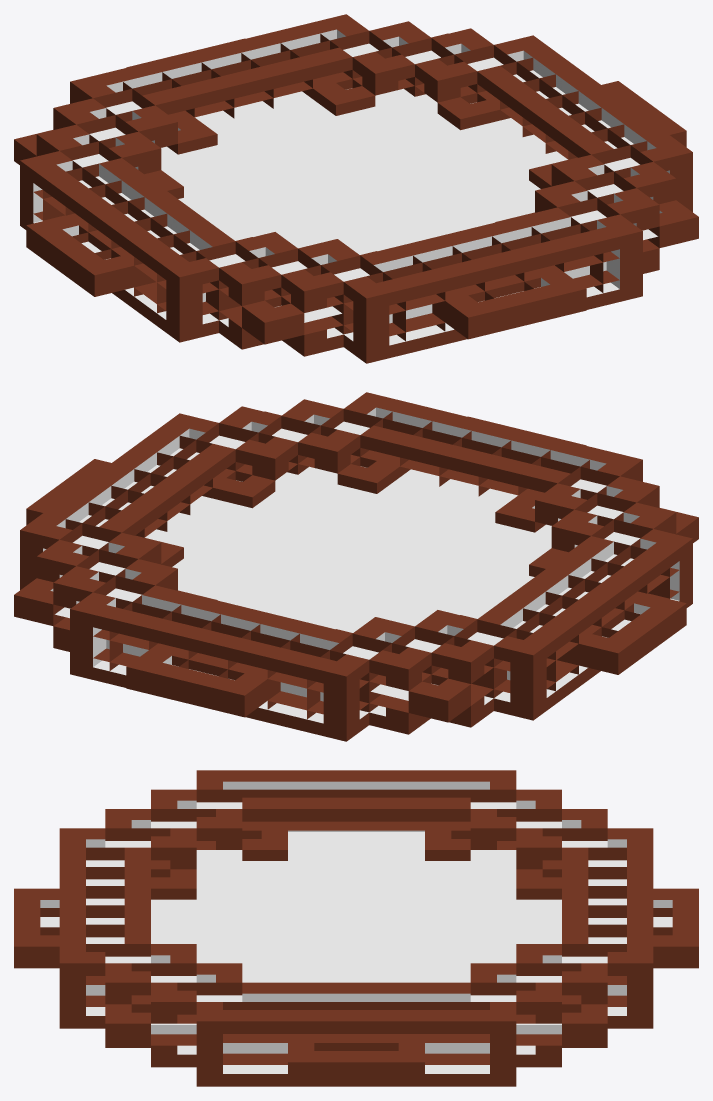
File: jap13.fbx
3 views of the same model, one above another, from view 1: azimuth 30°, elevation 25°; view 2: azimuth 150°, elevation 25°; view 3: azimuth 270°, elevation 25° (orthographic).
Parts seen in each view (by area): view 1: Torus, Plane; view 2: Torus, Plane; view 3: Torus, Plane.
Boxes of the visible parts, x1,y1,x2,y2 form: Torus: [14, 14, 698, 363]; Plane: [161, 88, 657, 322]; Torus: [14, 392, 698, 741]; Plane: [55, 466, 551, 700]; Torus: [14, 770, 698, 1086]; Plane: [151, 832, 561, 1024].
Size of the model in its own units: 684 by 72.13 by 684.
